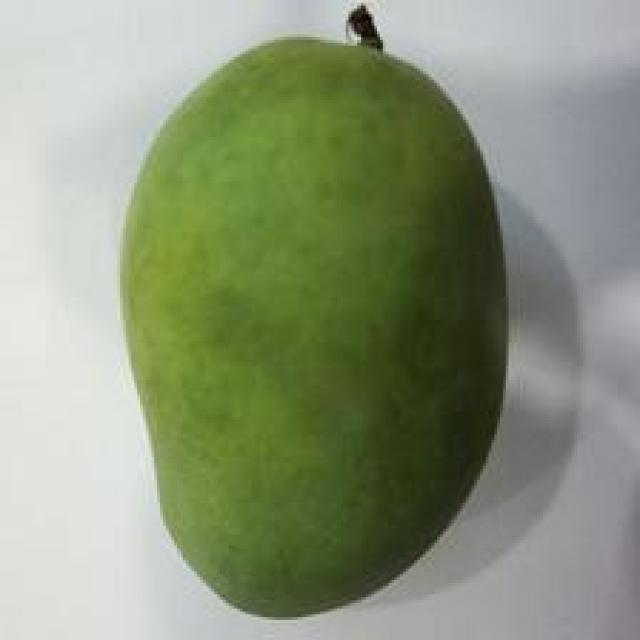Good_Mango: (117, 9, 509, 620)
